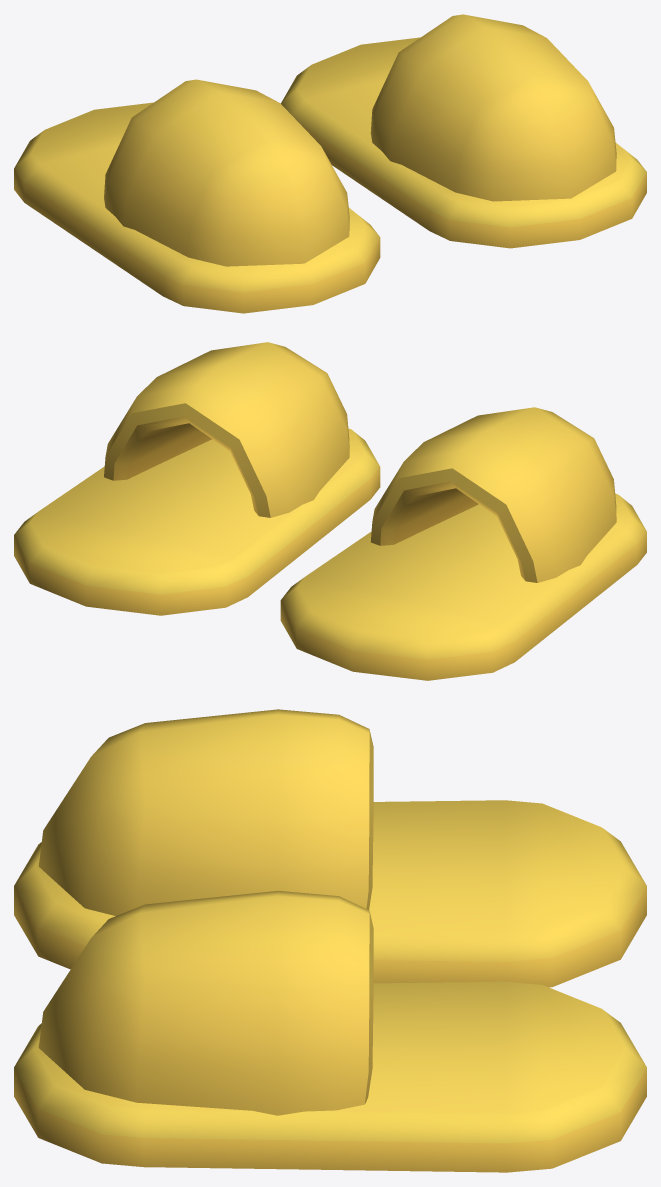
Rendered from slippers.glb.
3 renders of one model, top to bottom at view 1: azimuth 30°, elevation 25°; view 2: azimuth 150°, elevation 25°; view 3: azimuth 270°, elevation 25°, orthographic. The views are drawn at different scales.
Visible parts, largest first — view 1: slippers; view 2: slippers; view 3: slippers.
Part boxes in pixels (<box>): slippers: <box>14,14,646,313</box>; slippers: <box>14,342,646,680</box>; slippers: <box>14,709,646,1172</box>.
Bounding box in the file's own units: 0.7354 × 0.2058 × 0.5898.
1 material, 1 textured.
